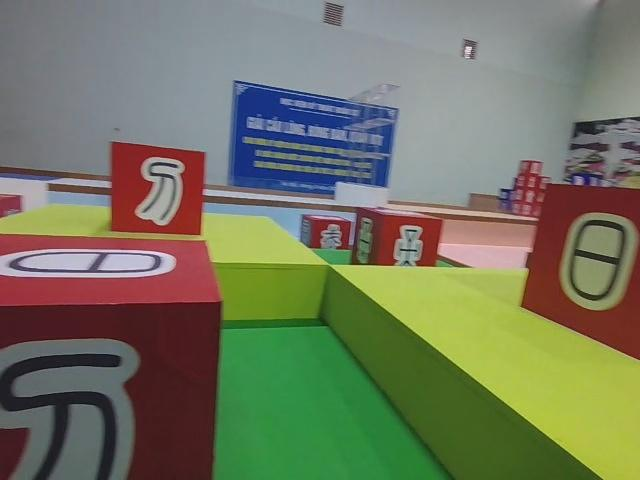R2 Fake: (0, 231, 225, 480), (519, 181, 640, 364), (107, 138, 207, 239), (298, 211, 354, 254)
R2 Real: (348, 203, 446, 275)
